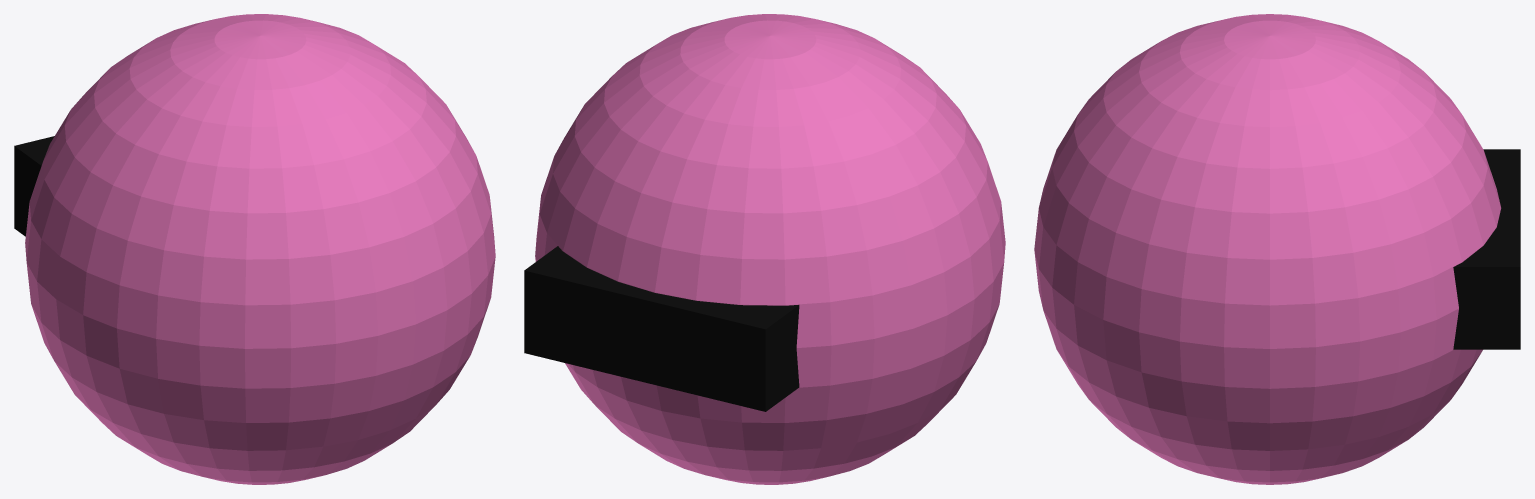
File: head.glb
The picture shows the model from 3 angles, left to right: view 1: azimuth 30°, elevation 25°; view 2: azimuth 150°, elevation 25°; view 3: azimuth 270°, elevation 25°; orthographic projection.
Visible parts, largest first — view 1: Sphere, Cube; view 2: Sphere, Cube; view 3: Sphere, Cube.
Boxes of the visible parts, x1,y1,x2,y2 form: Sphere: (25,14,495,484); Cube: (14,136,54,236); Sphere: (535,14,1005,484); Cube: (524,246,799,411); Sphere: (1034,14,1501,484); Cube: (1453,149,1520,349).
Bounding box in the file's own units: 0.4 × 0.4 × 0.4127.
